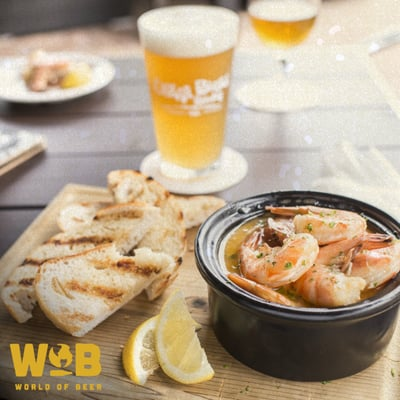pizza: (138, 4, 241, 185)
soup: (0, 171, 187, 337)
sushi: (194, 190, 400, 383)
taco: (122, 288, 215, 385), (154, 287, 215, 385)
